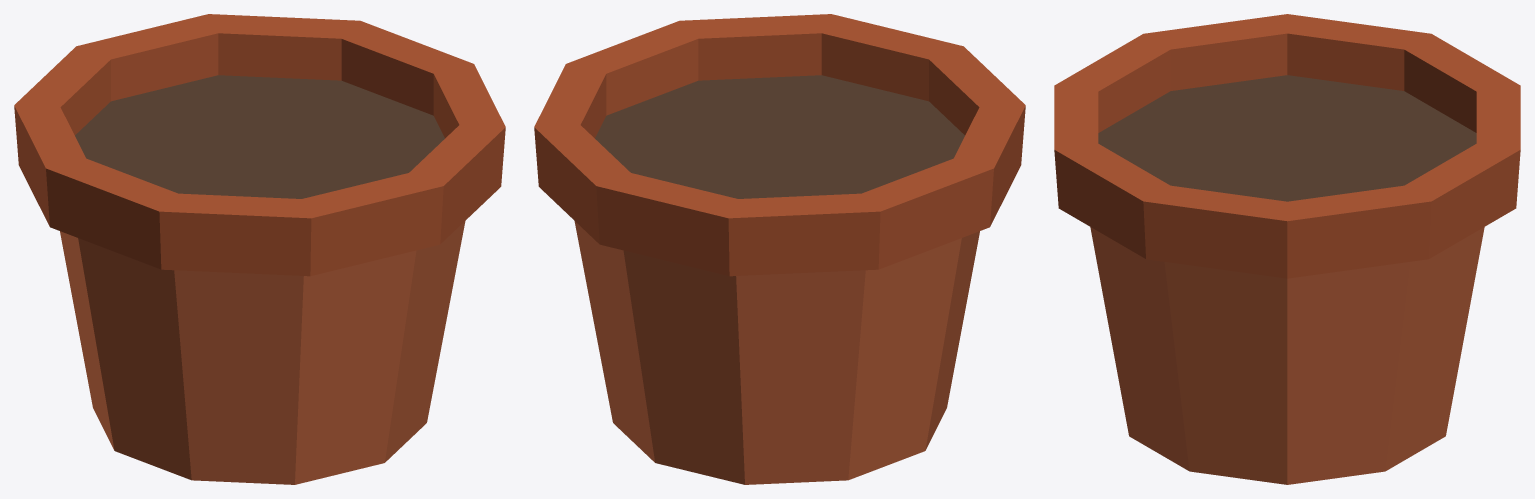
The model's file is Pot_Large.fbx.
3 views of the same model, side by side, from view 1: azimuth 30°, elevation 25°; view 2: azimuth 150°, elevation 25°; view 3: azimuth 270°, elevation 25° (orthographic).
Parts seen in each view (by area): view 1: Pot_Large; view 2: Pot_Large; view 3: Pot_Large.
Boxes of the visible parts, bbox=[...] form: Pot_Large: bbox=[14, 14, 505, 484]; Pot_Large: bbox=[534, 14, 1025, 484]; Pot_Large: bbox=[1054, 14, 1520, 484].
Size of the model in its own units: 0.5088 by 0.34 by 0.4839.
